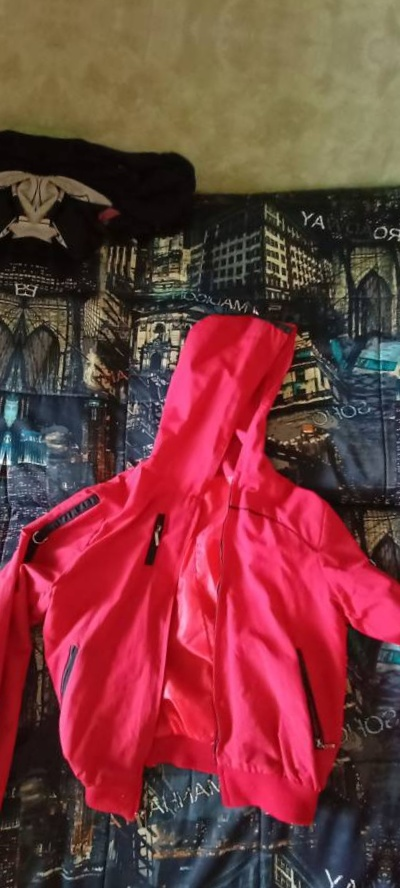Hoodie: (0, 240, 400, 888), (0, 188, 31, 873), (382, 293, 400, 888)
